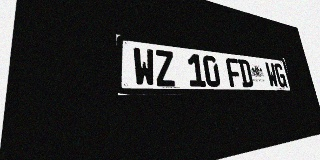0: (202, 55, 221, 87)
1: (186, 53, 206, 87)
D: (238, 59, 254, 87)
F: (225, 58, 243, 87)
G: (274, 63, 288, 87)
W: (132, 47, 156, 86), (264, 62, 279, 87)
Z: (154, 49, 176, 87)
